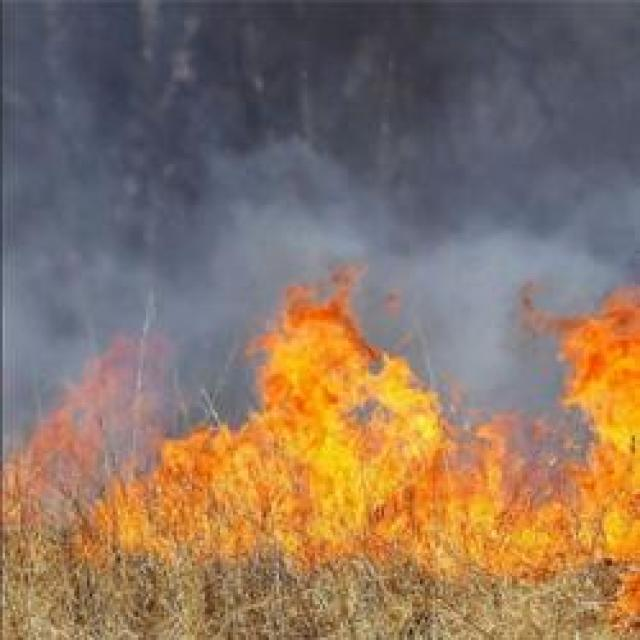fire: (574, 300, 640, 559)
smoke: (261, 307, 425, 548), (424, 242, 522, 382), (211, 194, 349, 269), (6, 264, 58, 381)
